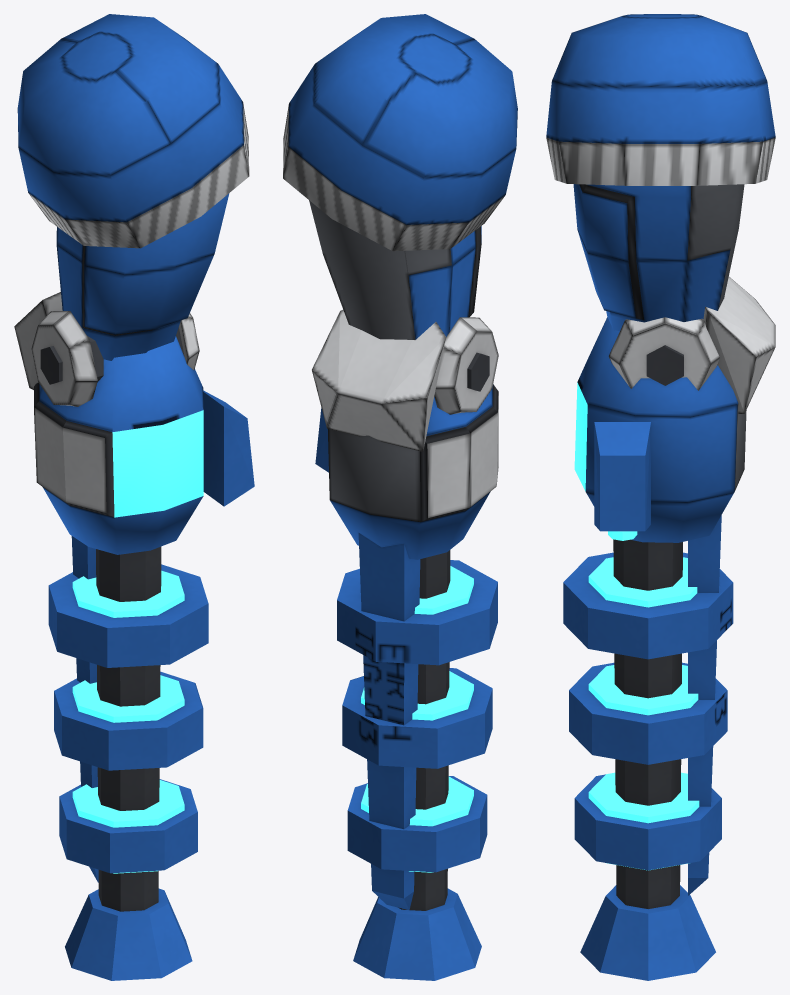
File: LeftIonPulseGunArmX.glb
3 views of the same model, side by side, from view 1: azimuth 30°, elevation 25°; view 2: azimuth 150°, elevation 25°; view 3: azimuth 270°, elevation 25° (orthographic). The views are drawn at different scales.
Visible parts, largest first — view 1: LeftIonPulseGunArmX_Fore, LeftIonPulseGunArmX_Upper; view 2: LeftIonPulseGunArmX_Fore, LeftIonPulseGunArmX_Upper; view 3: LeftIonPulseGunArmX_Fore, LeftIonPulseGunArmX_Upper.
Part boxes in pixels (x1,y1,x2,y2): LeftIonPulseGunArmX_Fore: [14, 292, 254, 980]; LeftIonPulseGunArmX_Upper: [17, 14, 249, 360]; LeftIonPulseGunArmX_Fore: [312, 310, 498, 980]; LeftIonPulseGunArmX_Upper: [283, 14, 517, 339]; LeftIonPulseGunArmX_Fore: [563, 276, 775, 980]; LeftIonPulseGunArmX_Upper: [546, 14, 775, 331].
Size of the model in its own units: 4.12 by 18.33 by 4.05.
6 materials, 5 textured.
